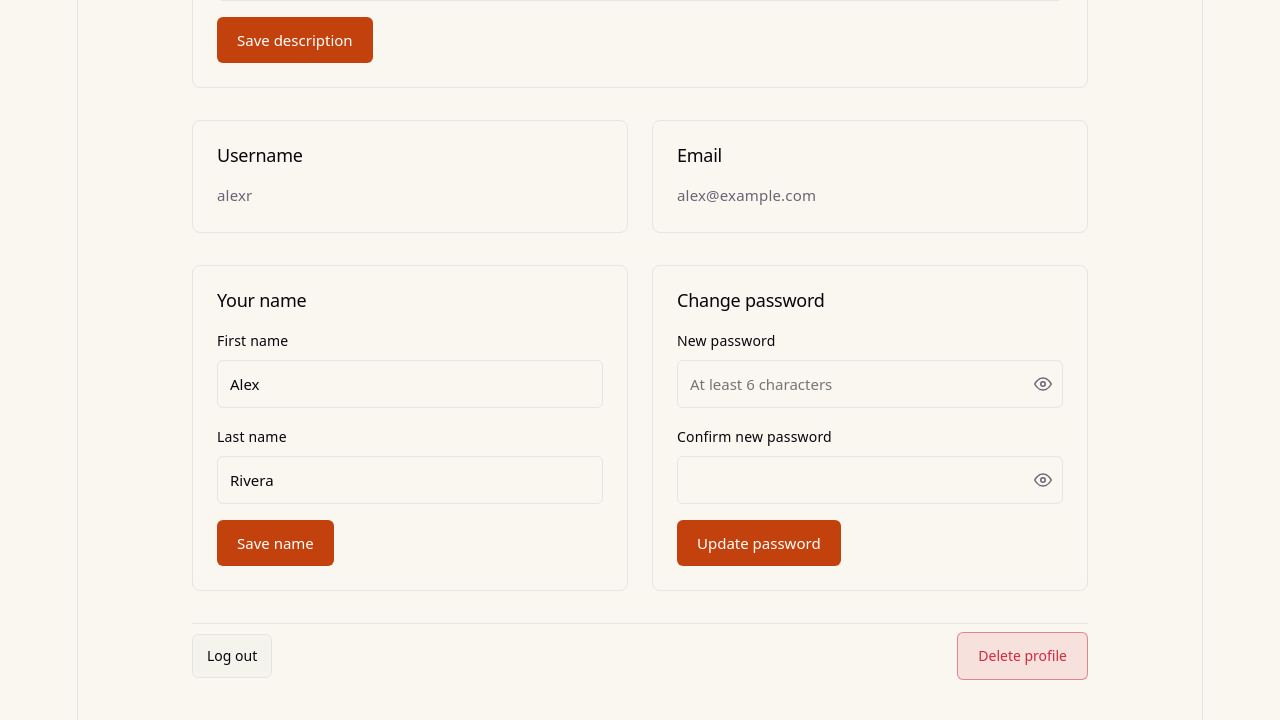
Test case: Profile › shows an error and does not delete when the password is wrong
(page scrolled)
Click the button "Delete profile". click: (1023, 656)
box: [957,632,1088,680]
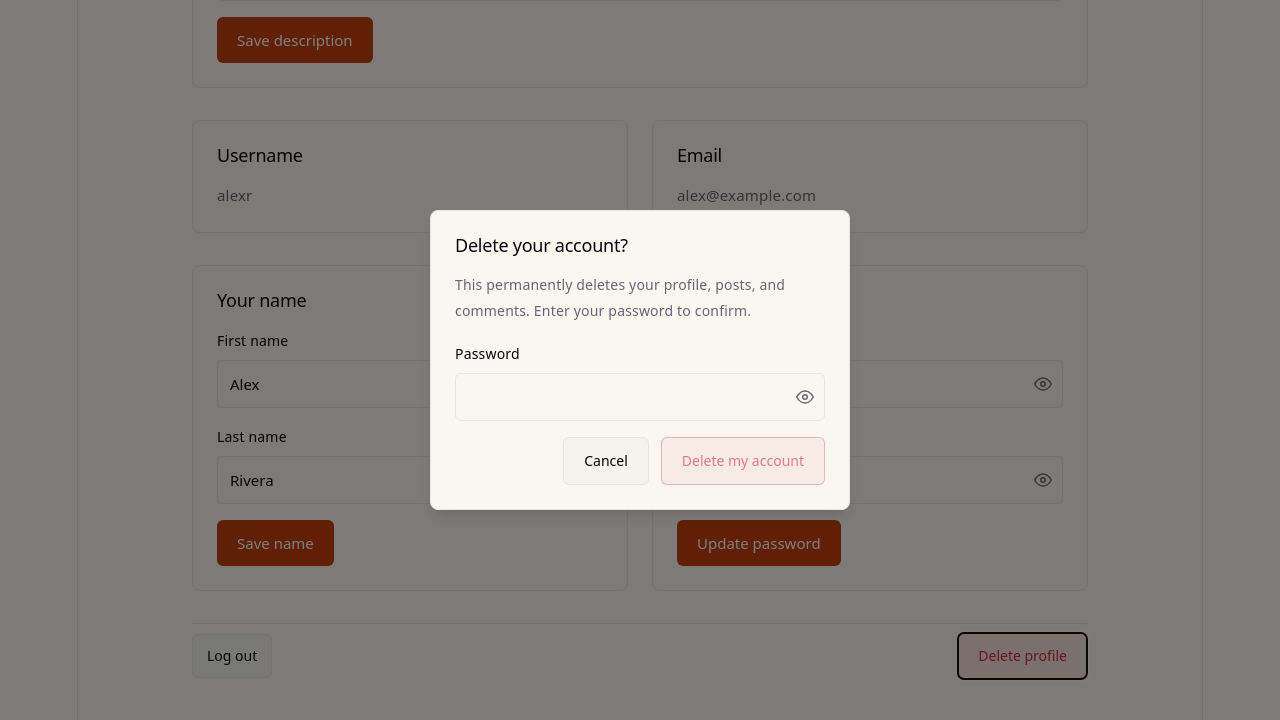
Type "wrongpass" into the password field labelled "Password". click: (640, 397)
box: [455,373,825,421]
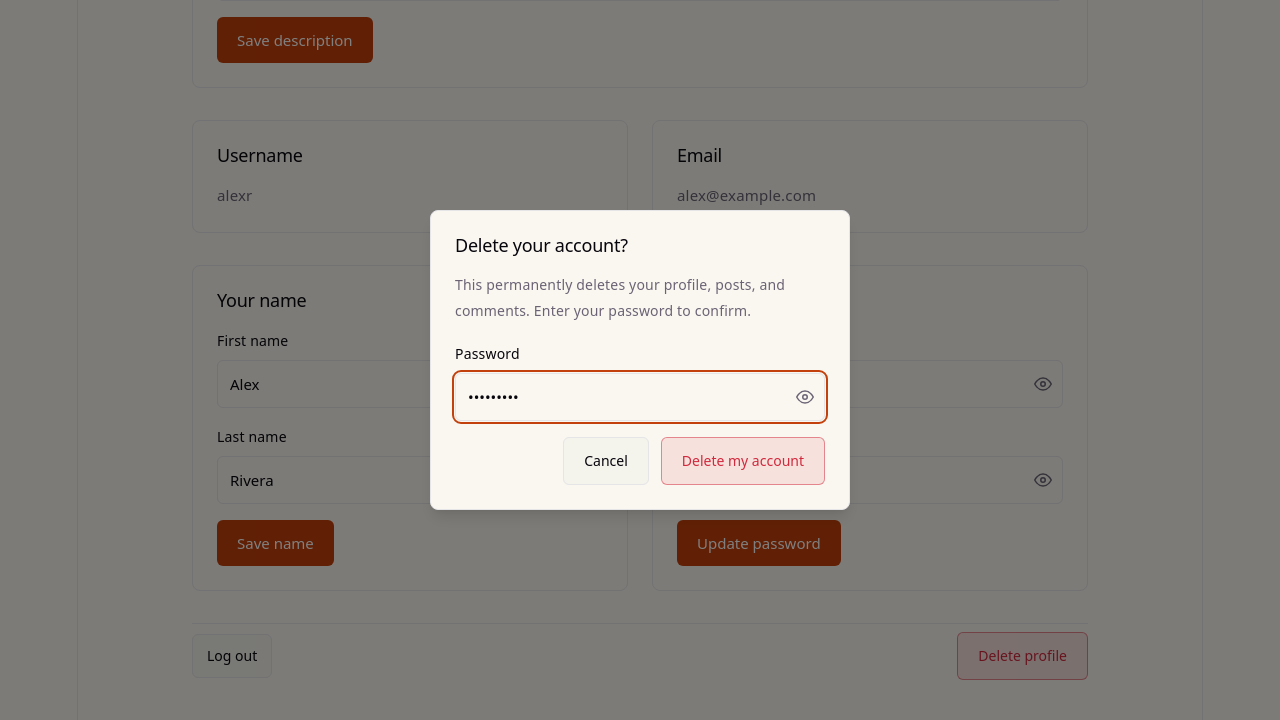
Click the button "Delete my account". click: (743, 461)
box: [661,437,825,485]
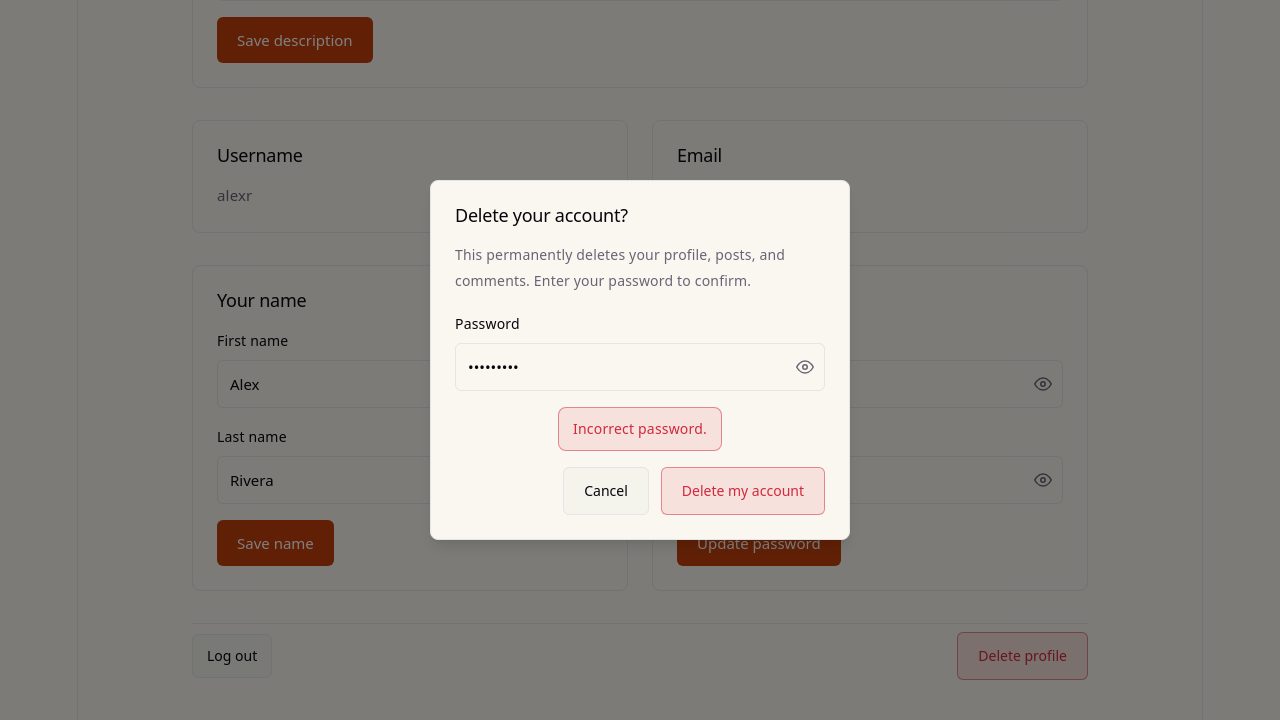
Check: the text "Incorrect password." is shown, box [558,407,722,451]
